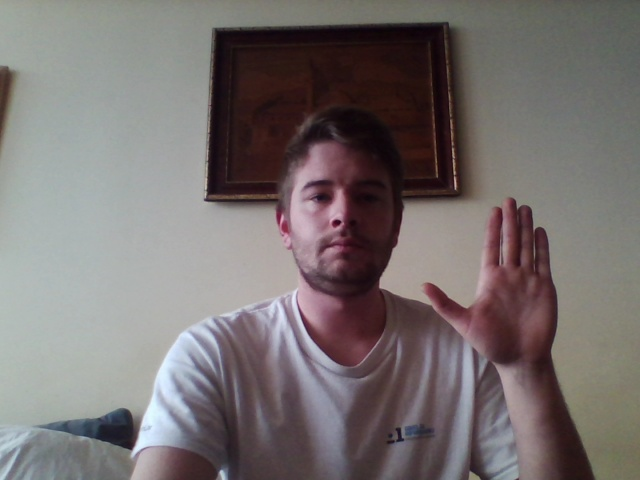pozdrav: (419, 194, 562, 367)
